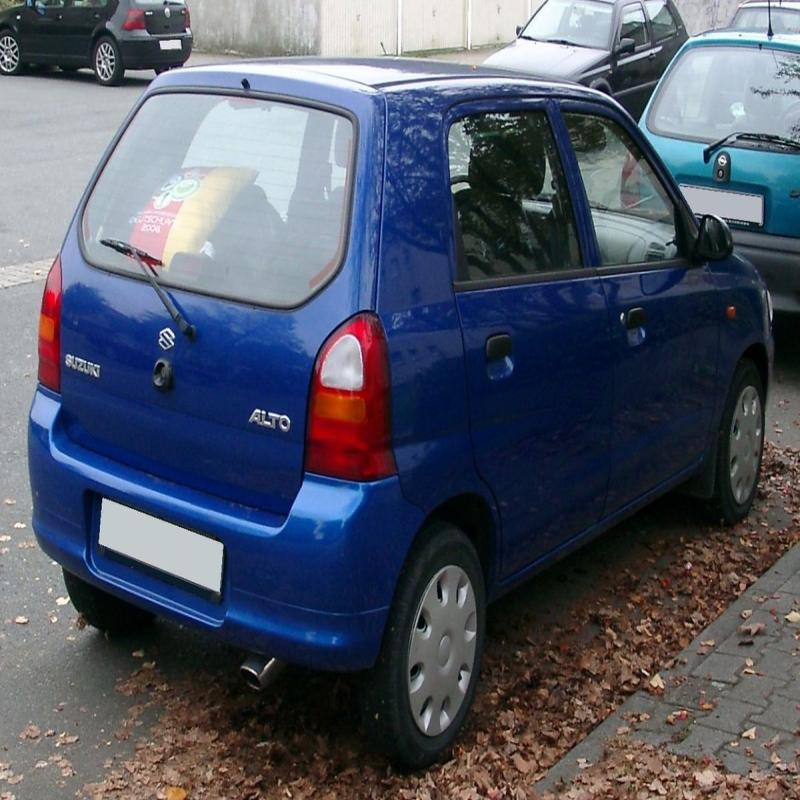car: (38, 54, 764, 704)
